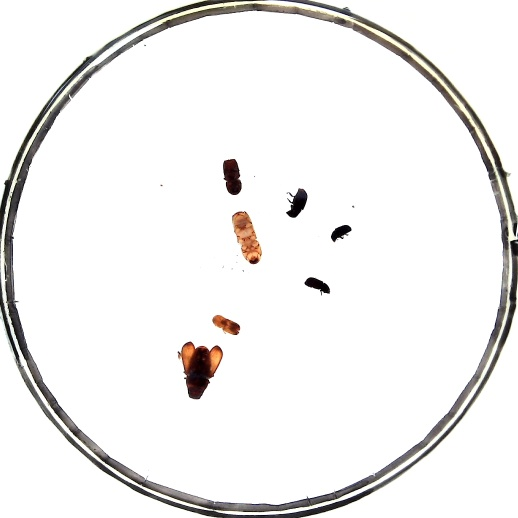acuminatus: (212, 312, 239, 334)
armandi: (285, 188, 308, 217)
boerner: (232, 212, 261, 265)
coleoptera: (301, 277, 330, 292), (328, 224, 351, 241)
leconte: (179, 341, 223, 399)
linnaeus: (220, 157, 241, 195)
